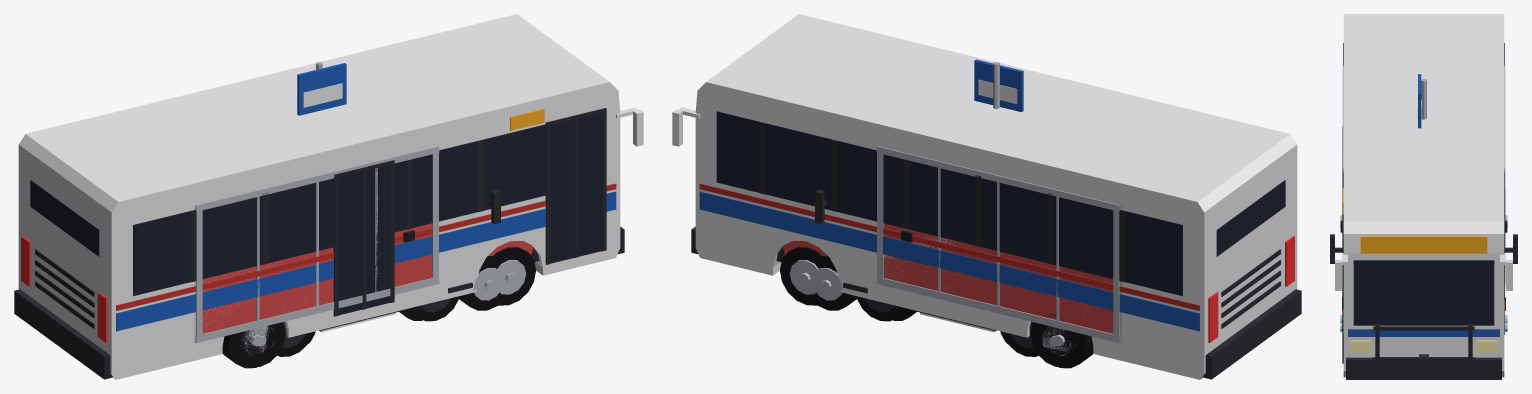
Rendered from cars.glb.
3 renders of one model, left to right at view 1: azimuth 30°, elevation 25°; view 2: azimuth 150°, elevation 25°; view 3: azimuth 270°, elevation 25°, orthographic. The views are drawn at different scales.
Visible parts, largest first — view 1: Bus, BoxTruck, BusStop, Cruiser; view 2: Bus, BoxTruck, BusStop, Cruiser; view 3: Bus, BoxTruck, BusStop.
Boxes of the visible parts, x1,y1,x2,y2 form: Bus: [14, 14, 643, 379]; BoxTruck: [194, 146, 539, 367]; BusStop: [297, 62, 346, 115]; Cruiser: [277, 230, 459, 356]; Bus: [672, 14, 1301, 379]; BoxTruck: [776, 146, 1121, 367]; BusStop: [974, 59, 1023, 112]; Cruiser: [856, 230, 1038, 356]; Bus: [1335, 14, 1512, 379]; BoxTruck: [1330, 65, 1517, 322]; BusStop: [1417, 74, 1426, 128].
Bounding box in the file's own units: 6.29 × 2.75 × 2.22.
